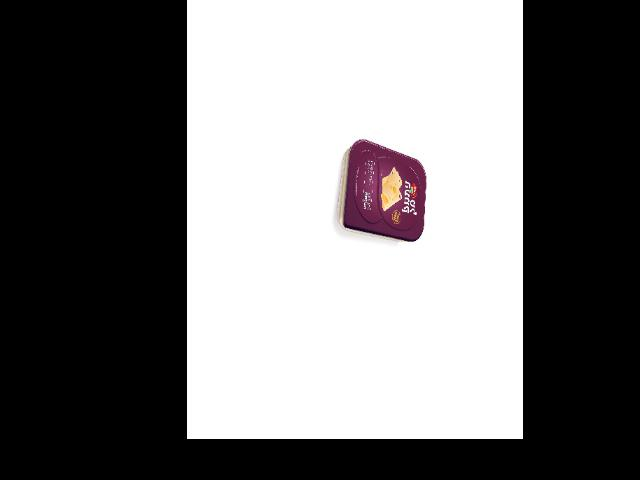cheese: (337, 139, 427, 241)
